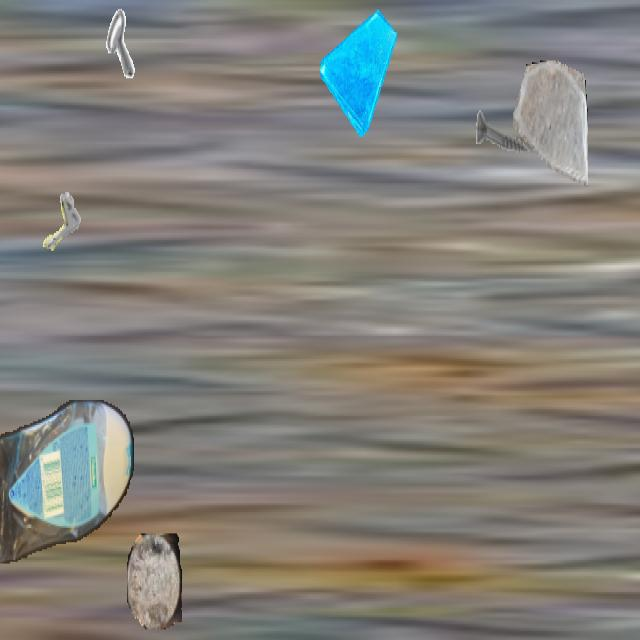glass: (320, 2, 396, 137), (513, 60, 587, 192)
metal: (74, 2, 136, 112), (474, 76, 536, 186), (25, 176, 85, 283)
plastic: (0, 400, 134, 564)
wood: (127, 534, 181, 630)
